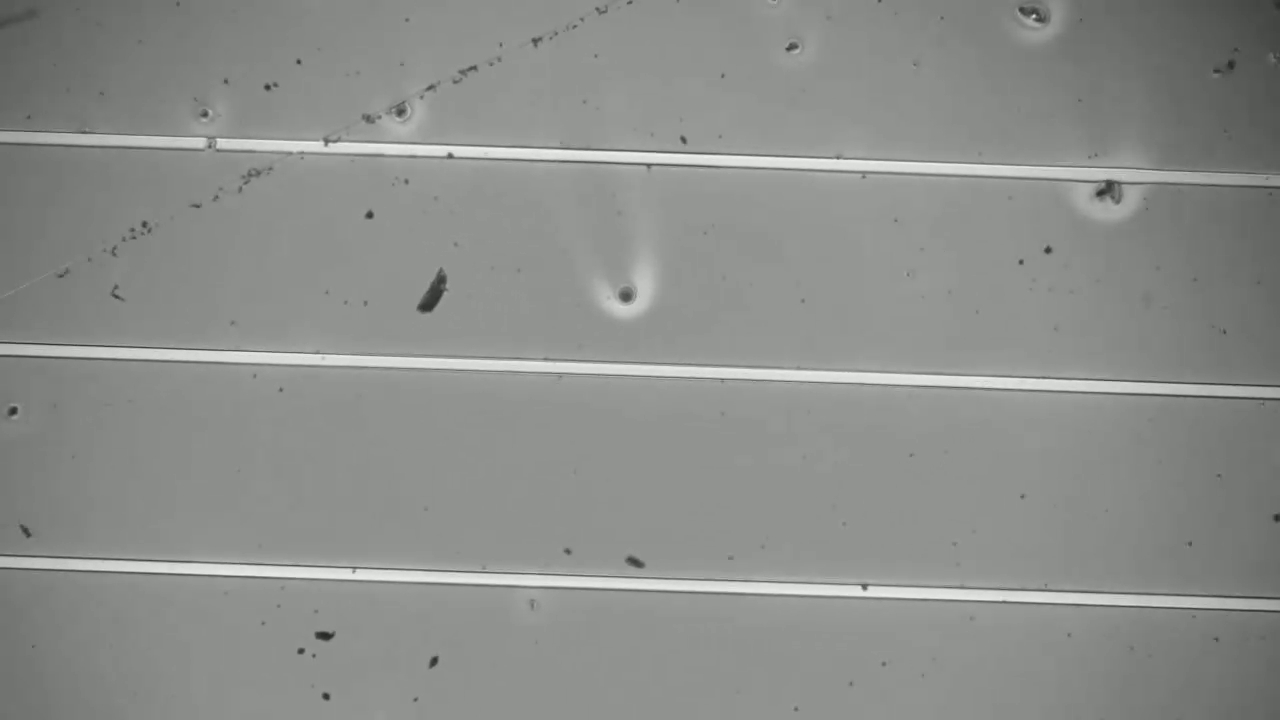open: (193, 126, 230, 158)
scratch: (7, 1, 642, 298)
stains_enbedded: (855, 573, 876, 607)
